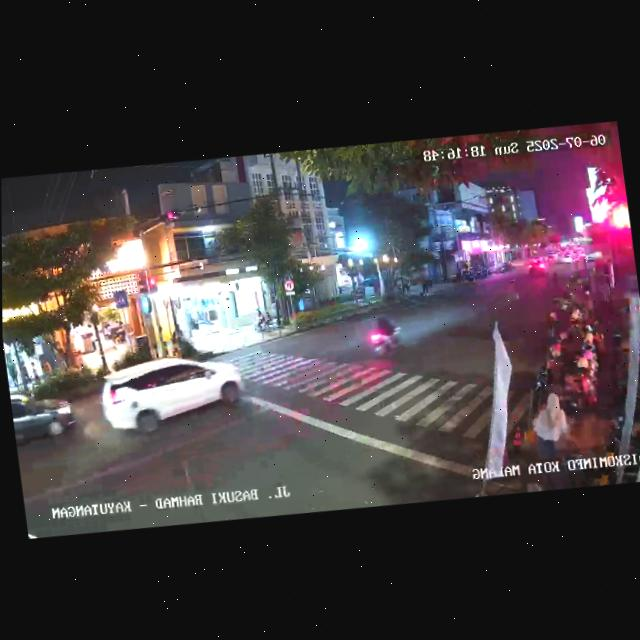car: (94, 346, 247, 444), (10, 388, 83, 458), (526, 255, 552, 275)
motorcycle: (364, 313, 406, 362)
person: (528, 386, 572, 484), (5, 352, 20, 389), (19, 358, 31, 386), (31, 359, 41, 386), (76, 347, 87, 371), (42, 357, 53, 377)
